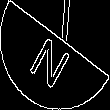N_NE: (30, 23, 80, 87)
